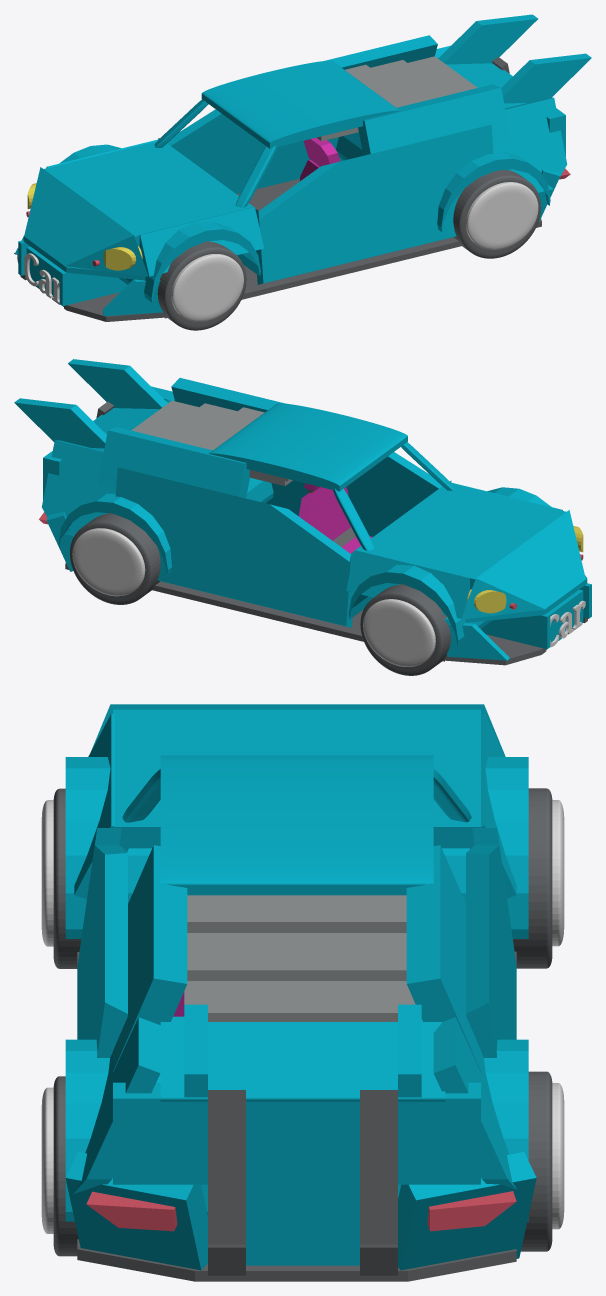
Rendered from Car.glb.
3 renders of one model, top to bottom at view 1: azimuth 30°, elevation 25°; view 2: azimuth 150°, elevation 25°; view 3: azimuth 270°, elevation 25°, orthographic. The views are drawn at different scales.
Parts seen in each view (by area): view 1: Mesh_Mesh_head_geo.001_lambert2SG.001; view 2: Mesh_Mesh_head_geo.001_lambert2SG.001; view 3: Mesh_Mesh_head_geo.001_lambert2SG.001.
Boxes of the visible parts, x1,y1,x2,y2 form: Mesh_Mesh_head_geo.001_lambert2SG.001: (14, 14, 591, 330); Mesh_Mesh_head_geo.001_lambert2SG.001: (14, 359, 591, 675); Mesh_Mesh_head_geo.001_lambert2SG.001: (41, 704, 564, 1281).
Size of the model in its own units: 130 by 36.37 by 56.
